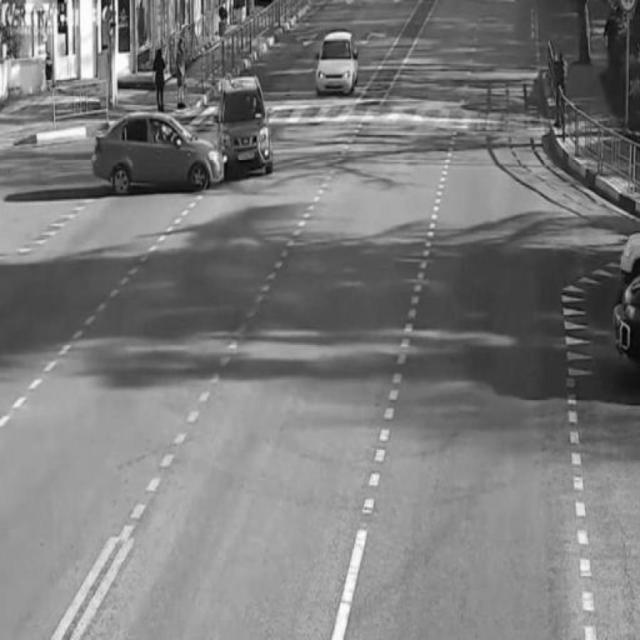accident: (104, 76, 271, 192), (311, 31, 357, 99)
